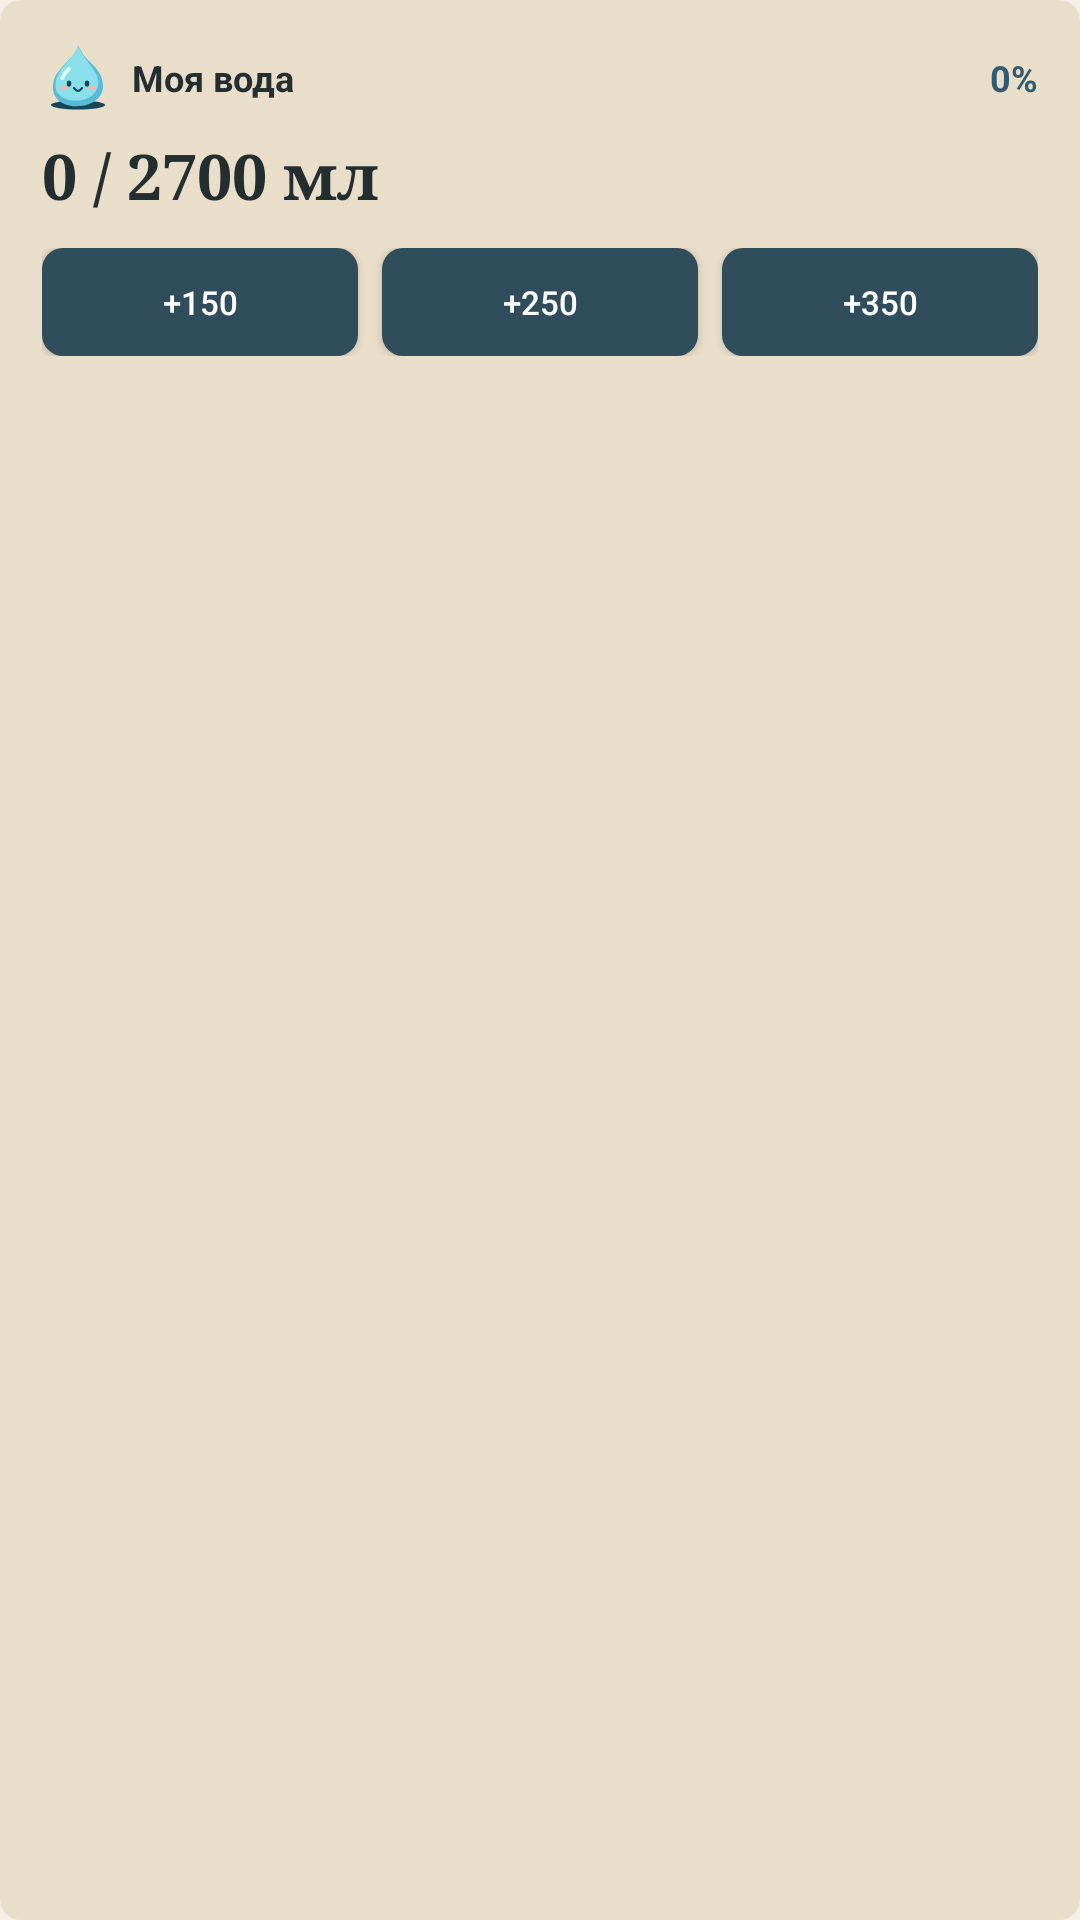

Icons on this 1080 x 1920 Android screen, each with its box as [x1=x1, y1=y1, x2=x2, y2=y2]:
buddy drop: [x1=51, y1=46, x2=105, y2=110]
